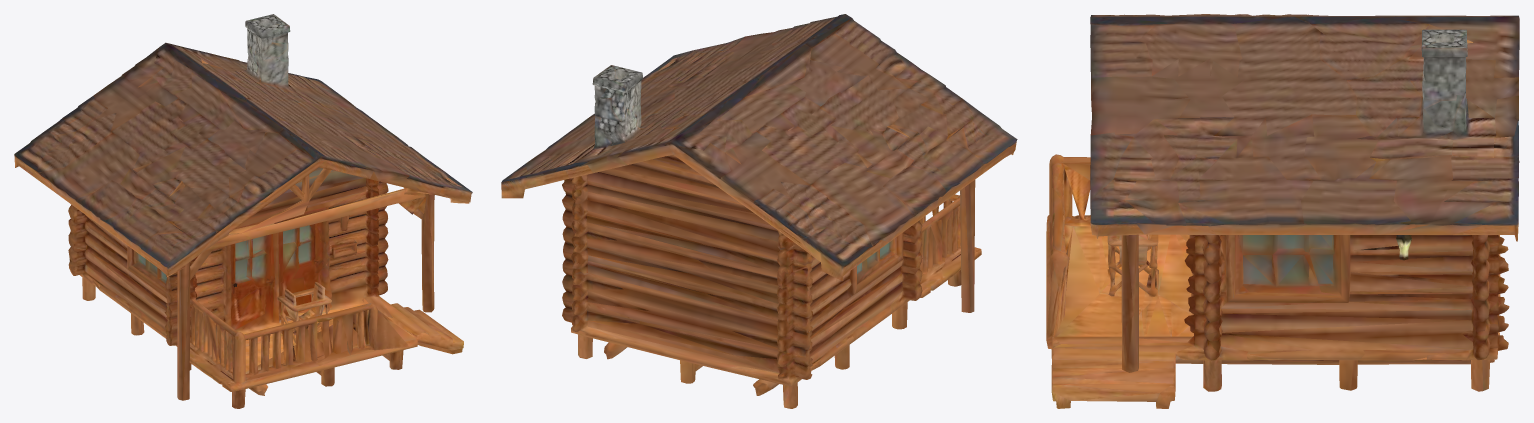
File: prop-ranger-cabin.glb
3 views of the same model, side by side, from view 1: azimuth 30°, elevation 25°; view 2: azimuth 150°, elevation 25°; view 3: azimuth 270°, elevation 25° (orthographic). The views are drawn at different scales.
Bounding box in the file's own units: 1.91 × 1.46 × 1.84.
1 material, 1 textured.
